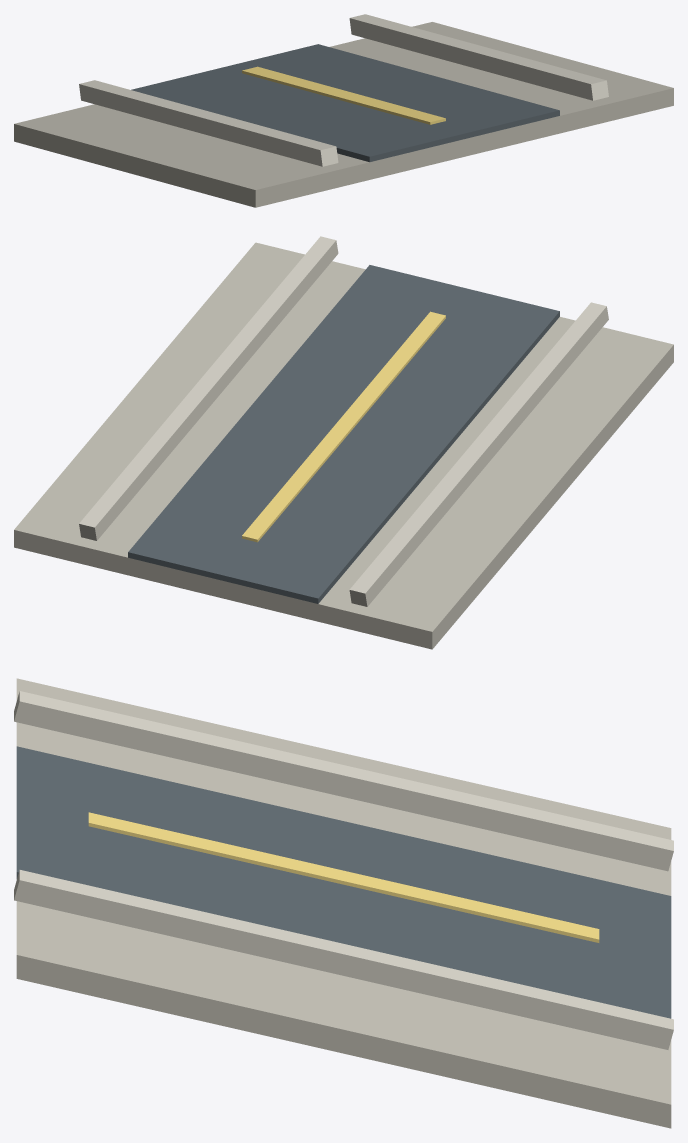
File: ROAD_LOCAL_SLOPE_1x1_DOWN_050.glb
The picture shows the model from 3 angles, top to bottom: view 1: azimuth 30°, elevation 25°; view 2: azimuth 150°, elevation 25°; view 3: azimuth 270°, elevation 25°; orthographic projection. The views are drawn at different scales.
Parts seen in each view (by area): view 1: ROAD_LOCAL_SLOPE_1x1_DOWN_050_Visual; view 2: ROAD_LOCAL_SLOPE_1x1_DOWN_050_Visual; view 3: ROAD_LOCAL_SLOPE_1x1_DOWN_050_Visual.
Part boxes in pixels (<box>): ROAD_LOCAL_SLOPE_1x1_DOWN_050_Visual: <box>14,14,673,207</box>; ROAD_LOCAL_SLOPE_1x1_DOWN_050_Visual: <box>14,236,673,649</box>; ROAD_LOCAL_SLOPE_1x1_DOWN_050_Visual: <box>14,678,673,1128</box>.
Size of what is drawn, in the model's own units: 1.98 by 0.6839 by 2.
